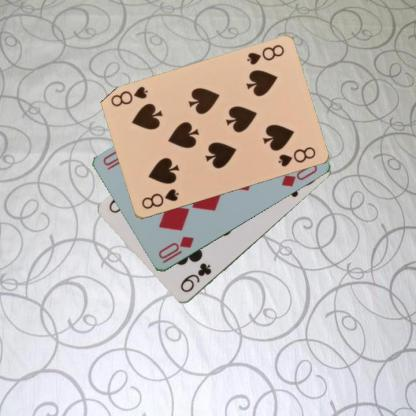10d: (156, 234, 196, 261)
8s: (244, 42, 285, 67), (138, 187, 180, 211)
9c: (178, 261, 212, 294)
